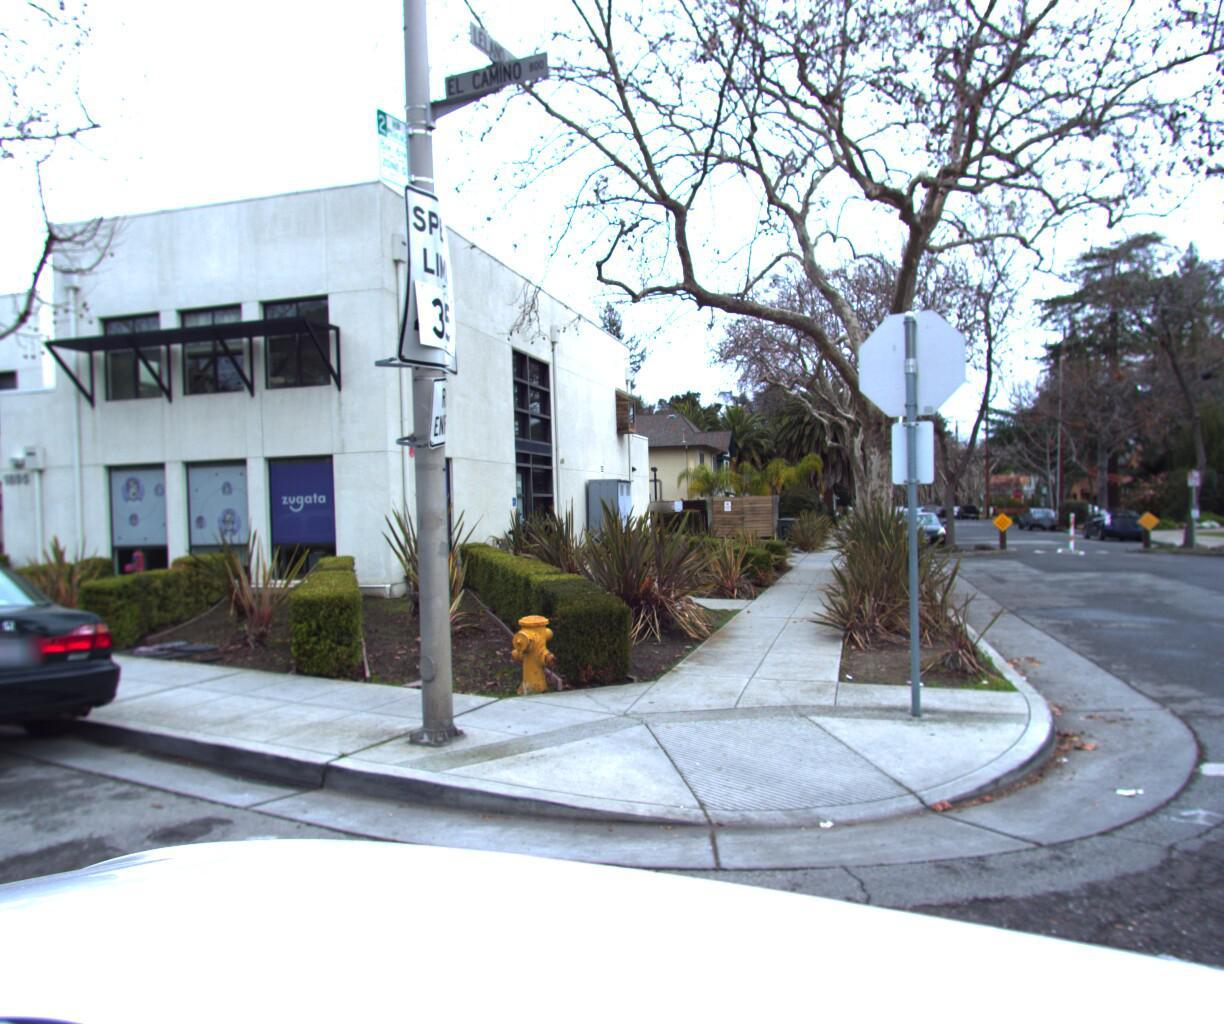car: (0, 537, 152, 833), (1078, 501, 1153, 542), (891, 503, 956, 548), (1012, 502, 1066, 529)
